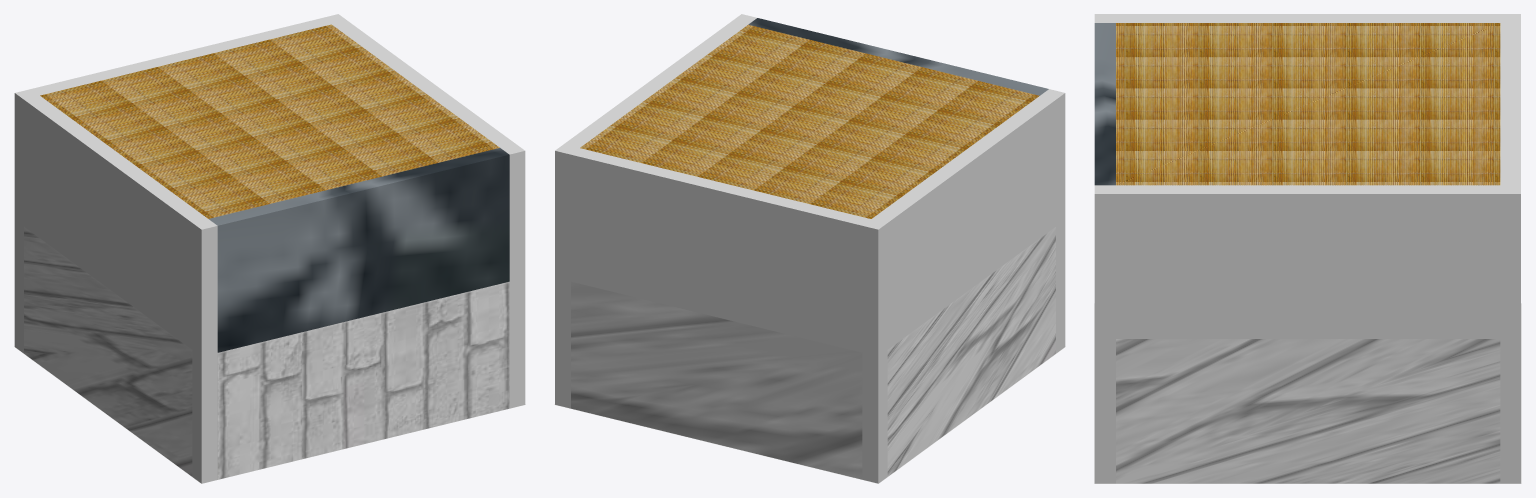
File: BubbleHouseTemplateTextured.fbx
3 renders of one model, left to right at view 1: azimuth 30°, elevation 25°; view 2: azimuth 150°, elevation 25°; view 3: azimuth 270°, elevation 25°, orthographic. The views are drawn at different scales.
Visible parts, largest first — view 1: CEILING, twall4, Wall3, Twall1, WallOne, TopFloor, BottomFloor, Twall2, Twall3; view 2: CEILING, Twall2, Wall4, Twall1, WallOne, TopFloor, BottomFloor, twall4, Twall3; view 3: CEILING, Twall3, Wall2, TopFloor, BottomFloor, Twall2, twall4, Twall1, Plane.
Part boxes in pixels (x1,y1,x2,y2): CEILING: (40, 24, 499, 218); twall4: (209, 148, 509, 352); Wall3: (217, 281, 509, 479); Twall1: (24, 95, 207, 349); WallOne: (24, 227, 192, 476); TopFloor: (14, 89, 525, 356); BottomFloor: (14, 220, 525, 483); Twall2: (31, 14, 346, 95); Twall3: (332, 20, 515, 147); CEILING: (580, 24, 1039, 218); Twall2: (555, 144, 870, 352); Wall4: (571, 281, 862, 479); Twall1: (871, 96, 1055, 349); WallOne: (887, 227, 1055, 476); TopFloor: (555, 14, 1065, 356); BottomFloor: (555, 220, 1065, 483); twall4: (748, 18, 1048, 95); Twall3: (564, 21, 747, 147); CEILING: (1116, 23, 1500, 185); Twall3: (1116, 185, 1500, 338); Wall2: (1116, 339, 1500, 483); TopFloor: (1094, 14, 1520, 338); BottomFloor: (1094, 339, 1520, 483); Twall2: (1500, 23, 1520, 193); twall4: (1094, 23, 1115, 185); Twall1: (1116, 14, 1500, 22); Plane: (1094, 303, 1521, 483).
Bounding box in the file's own units: 4010 × 3028 × 4010.
